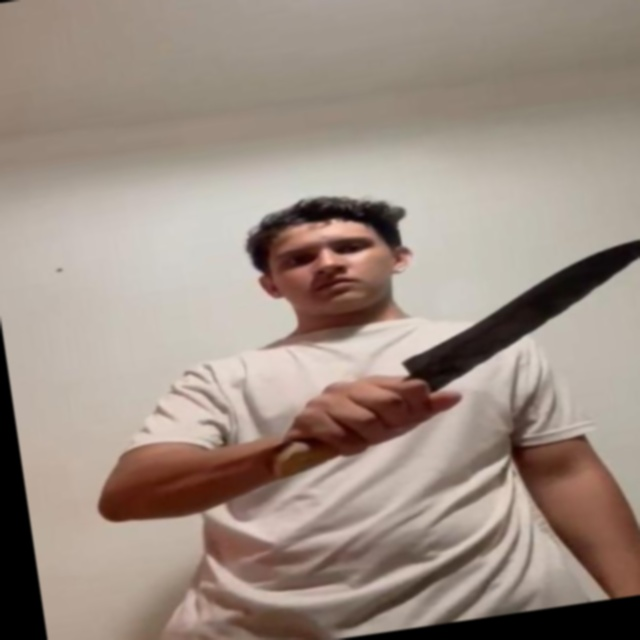Sharp-Object: (389, 234, 640, 384)
